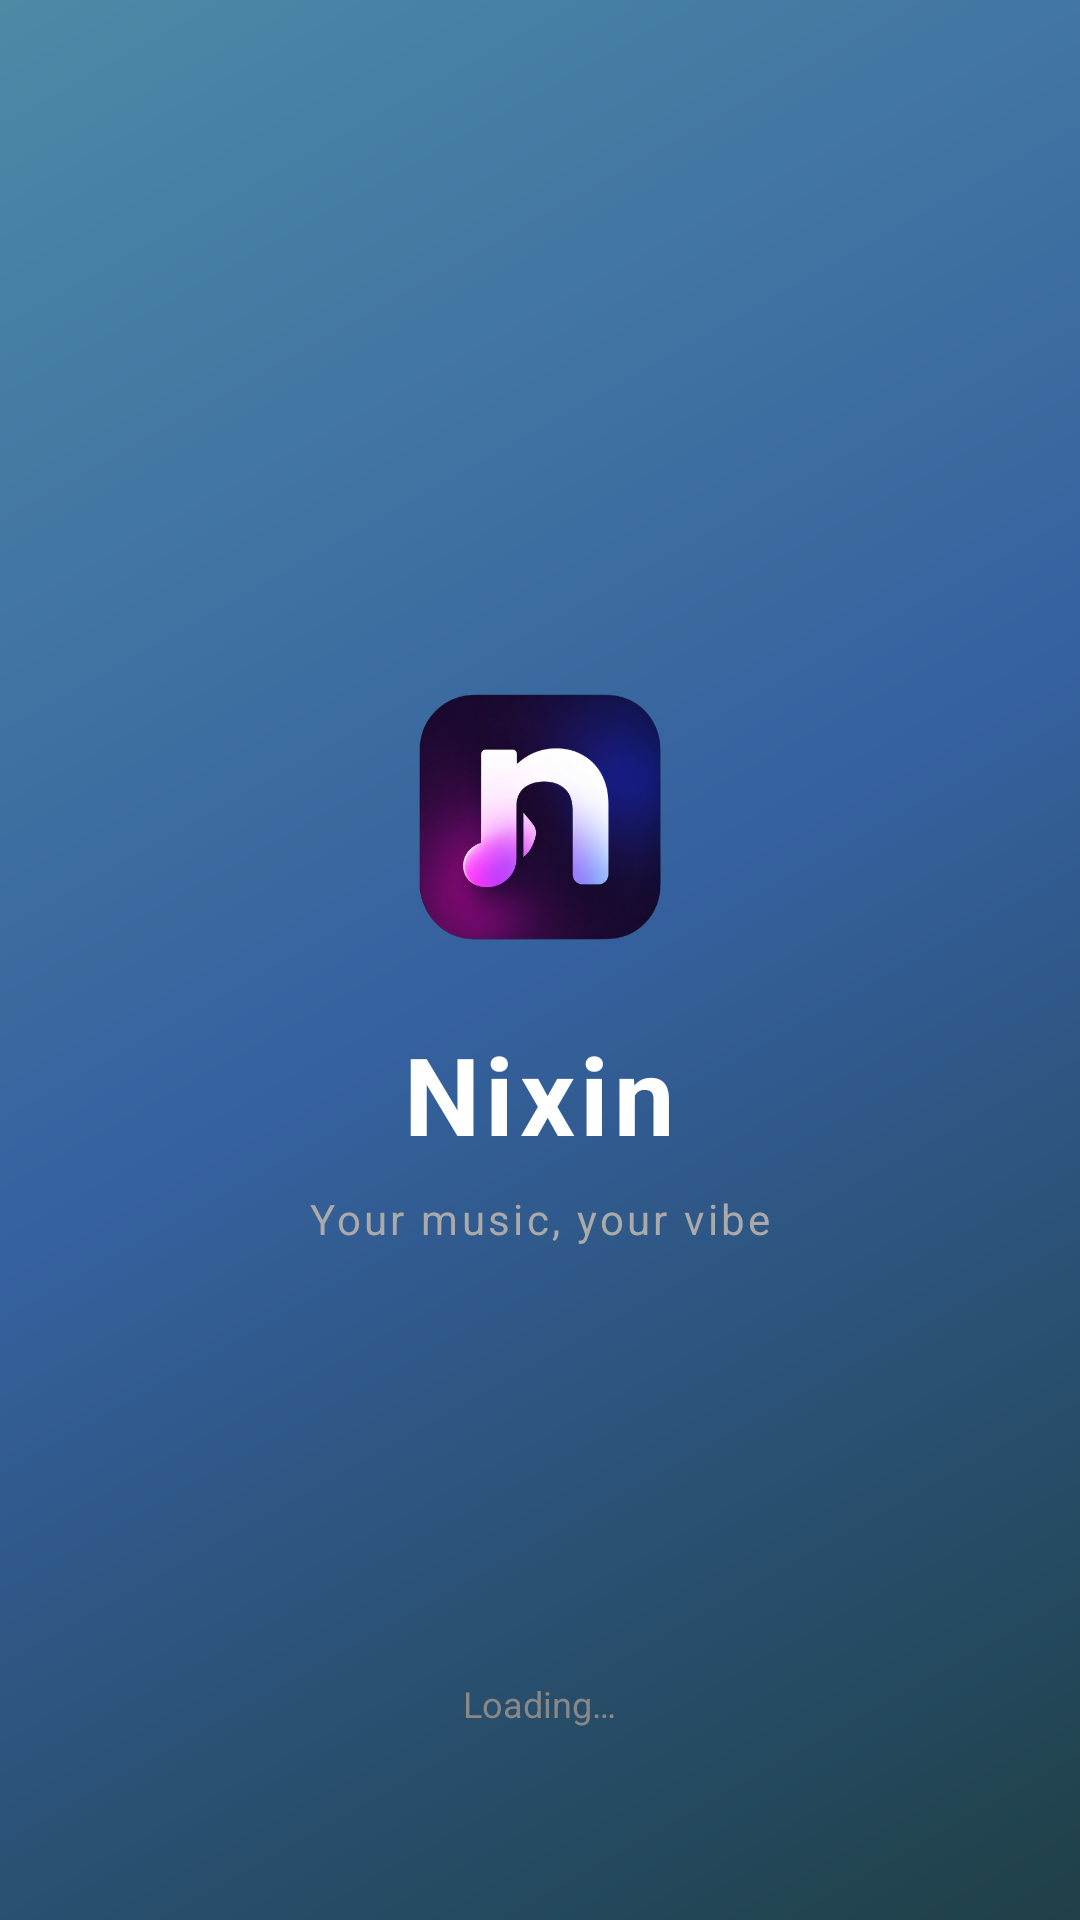

Point at icon controls on the screen. Image size 1080x1920, points as (x=x, y=y).
App Icon: (x=540, y=817)
